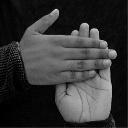hand: (19, 8, 117, 85), (55, 21, 112, 123)
